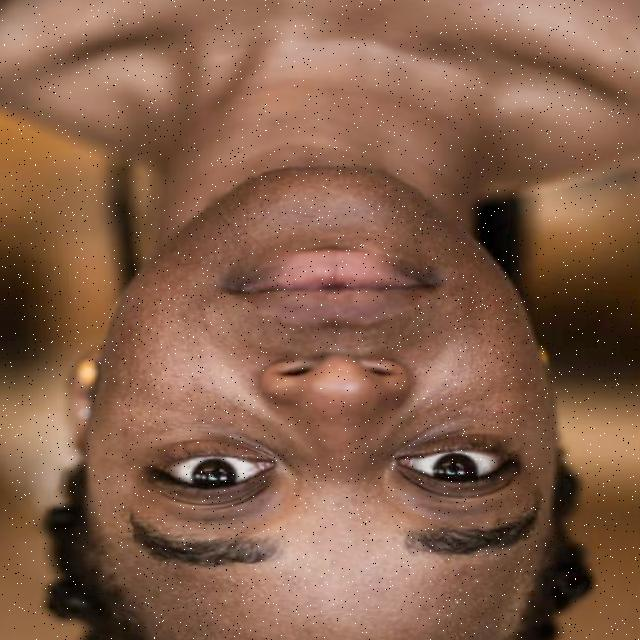puffy_eyes: (139, 438, 254, 459), (416, 425, 506, 450)
